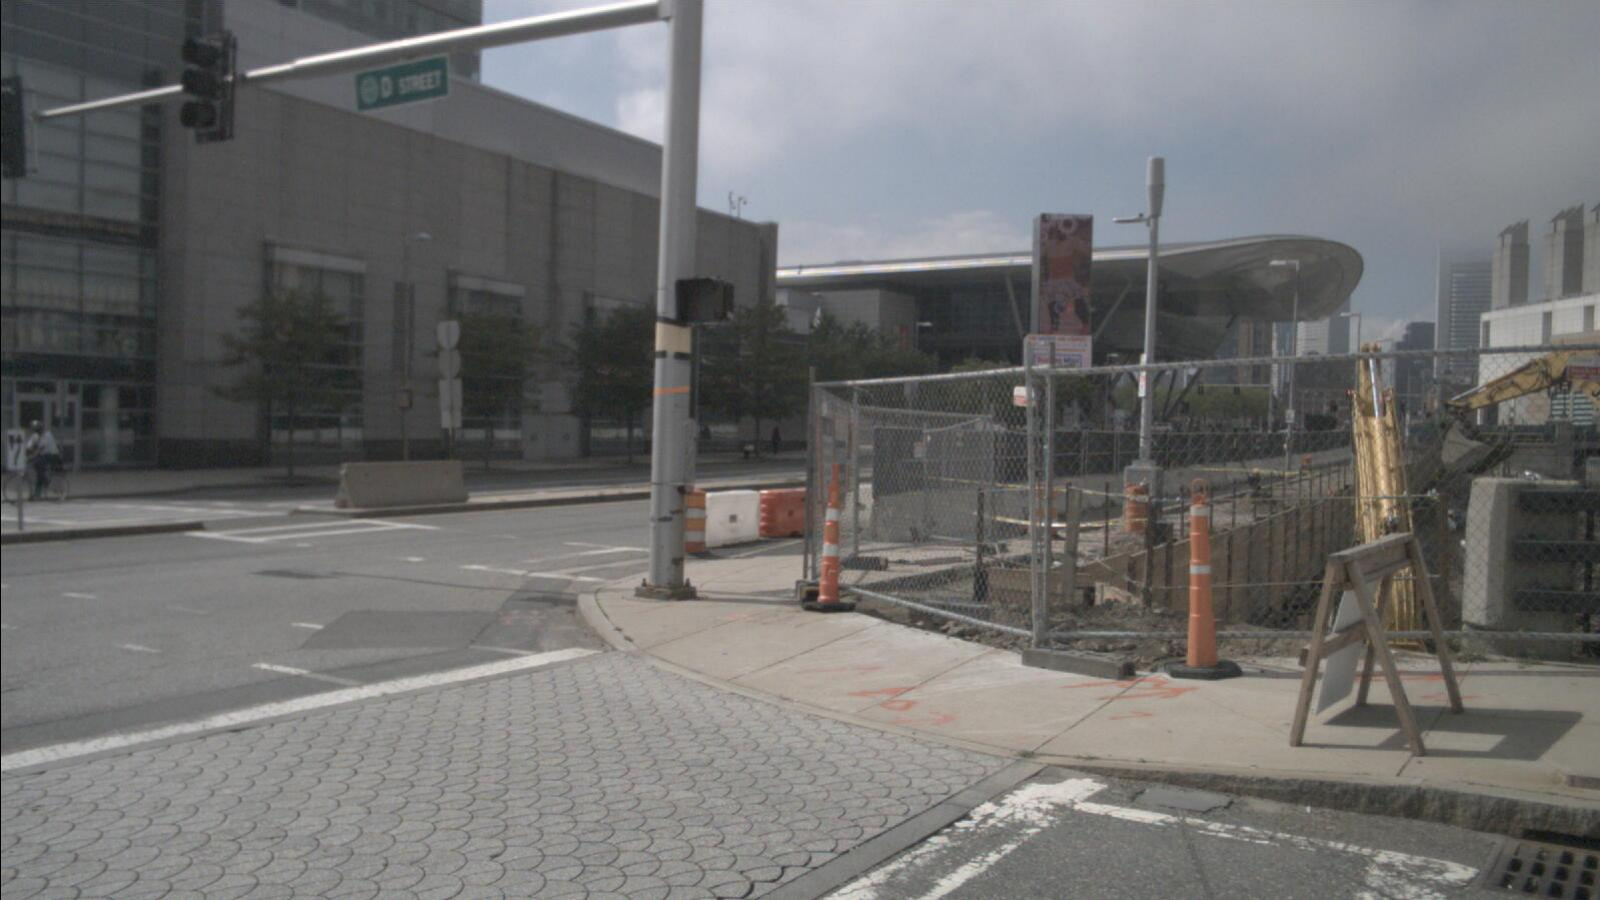human.pedestrian.adult-pedestrian.moving: (771, 427, 781, 455)
vehicle.bicycle-cycle.with_rider: (7, 418, 75, 505)
